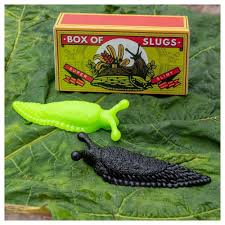slug: (74, 133, 213, 188), (6, 98, 129, 138)
